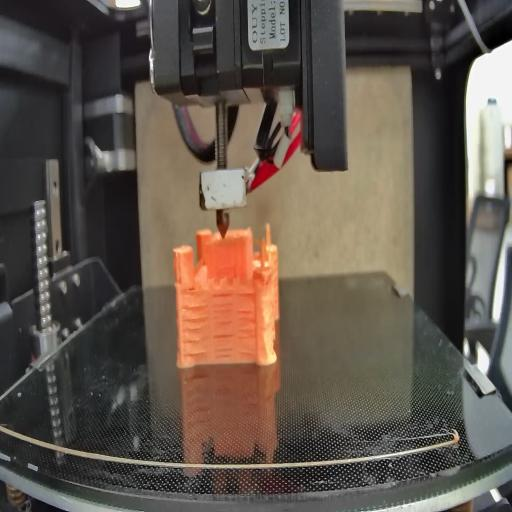cracks: (183, 304, 210, 354), (237, 312, 258, 355), (212, 328, 236, 360), (212, 292, 233, 326), (233, 292, 256, 298), (184, 286, 200, 294)
